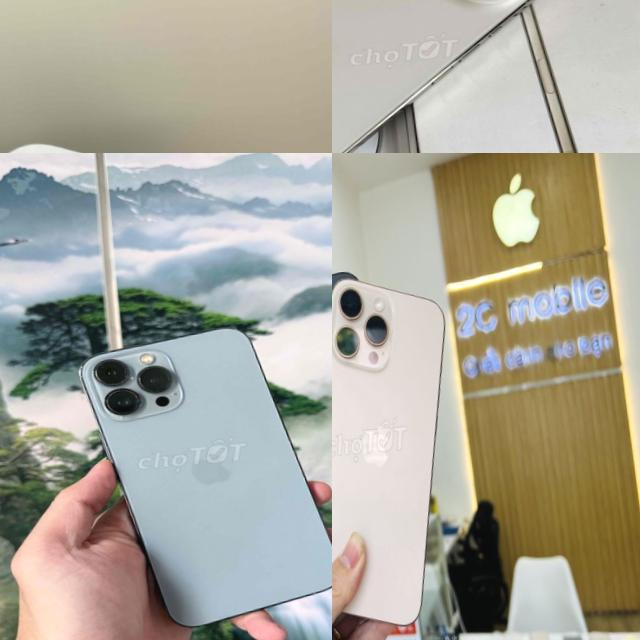gen_12_13: (58, 315, 332, 640), (0, 110, 332, 153)
gen_16: (332, 267, 472, 640)
gen_17: (332, 0, 558, 153)
